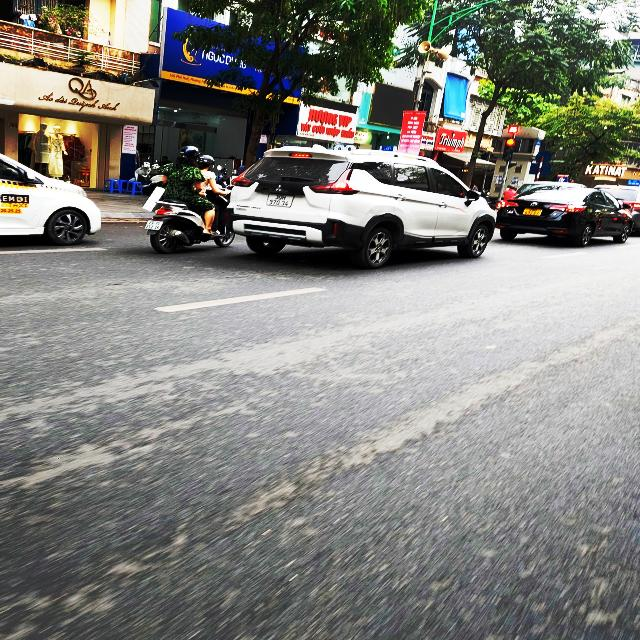license_plate: (265, 192, 298, 210), (144, 220, 166, 233)
